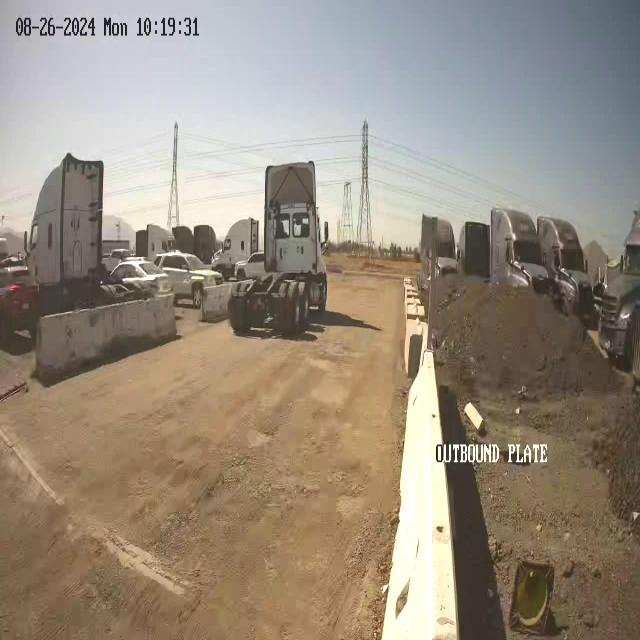BOBTAIL: (227, 159, 329, 336)
